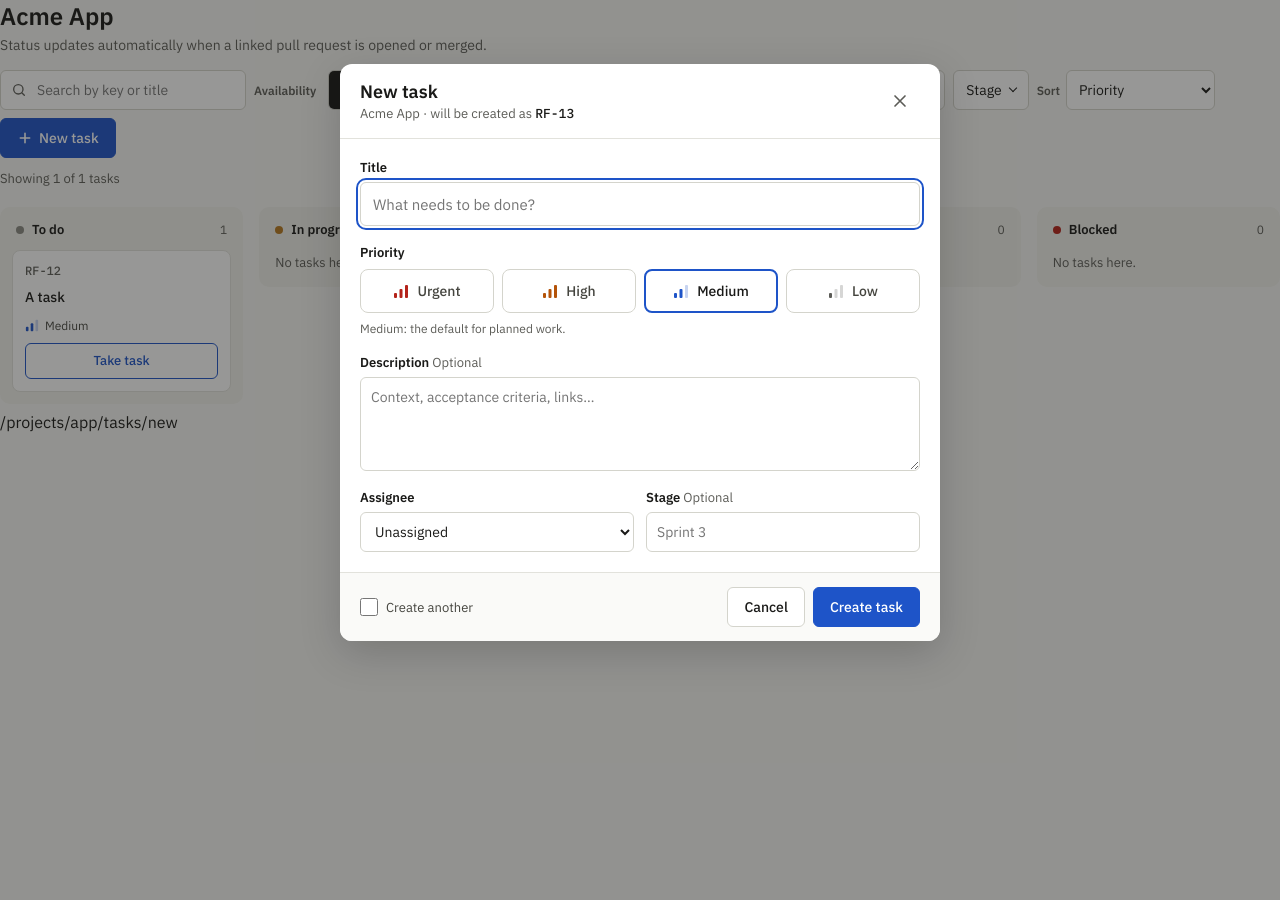
Scenario: New task › defaults the priority to Medium, explaining each choice
Expected: the element "Priority" is shown, [360,244,920,336]
Expected: the radio button labelled "Medium" is checked, [644,269,778,313]
Click the radio button labelled "Urgent": (427, 291) [360,269,494,313]
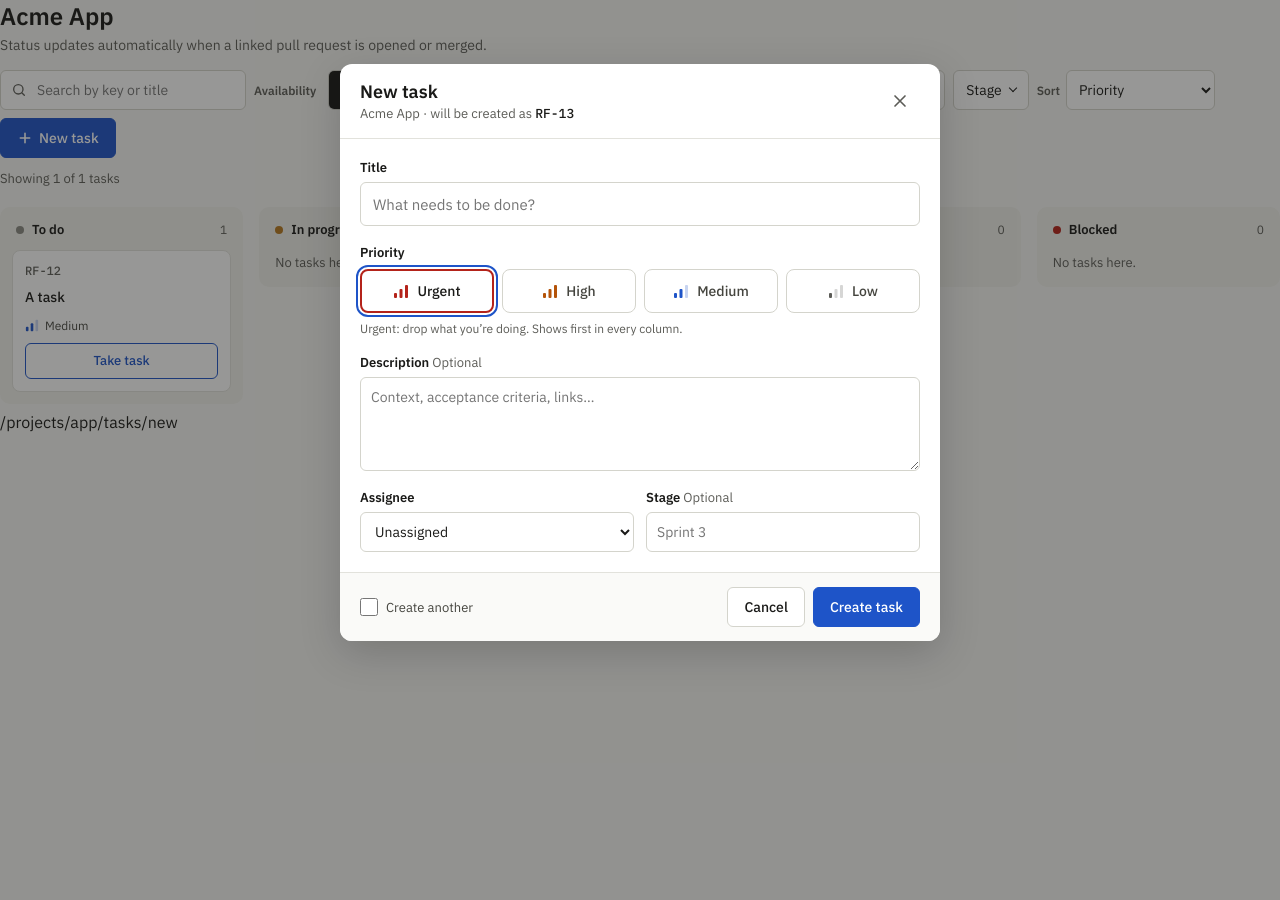
Expected: the text "Urgent: drop what you’re doing. Shows first in every column." is shown, [360,321,682,336]
